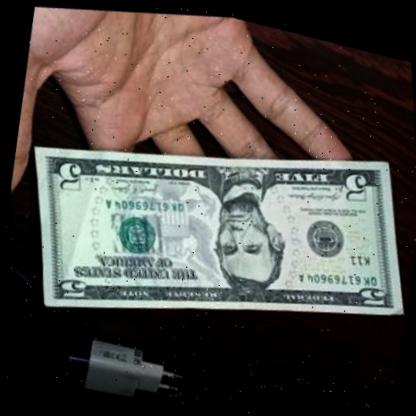five-front: (0, 71, 416, 390)
